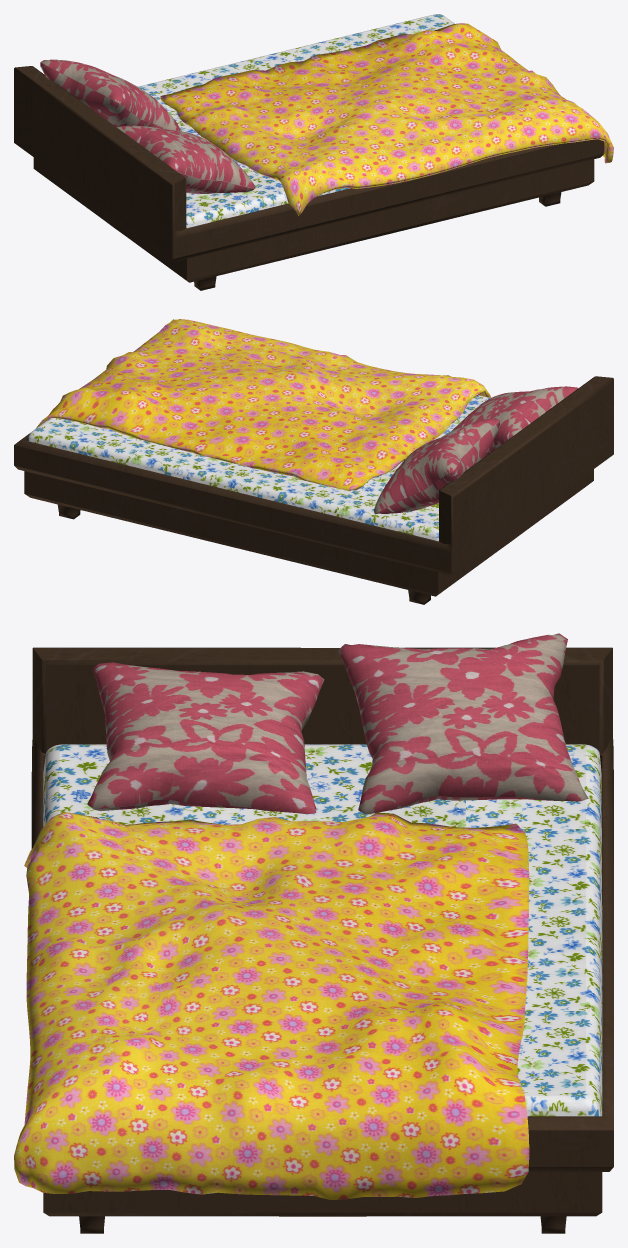
Rendered from bed_double.glb.
The picture shows the model from 3 angles, top to bottom: view 1: azimuth 30°, elevation 25°; view 2: azimuth 150°, elevation 25°; view 3: azimuth 270°, elevation 25°; orthographic projection. The views are drawn at different scales.
Parts seen in each view (by area): view 1: BedDouble; view 2: BedDouble; view 3: BedDouble.
Boxes of the visible parts, left/top/right/bottom form: BedDouble: left=14, top=14, right=613, bottom=290; BedDouble: left=14, top=319, right=613, bottom=604; BedDouble: left=14, top=633, right=613, bottom=1233.
Size of the model in its own units: 2.76 by 0.8487 by 1.77.
Materials: 4 (4 with a texture image).
